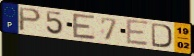5: (45, 11, 65, 36)
7: (99, 17, 118, 42)
D: (150, 22, 173, 49)
E: (125, 18, 150, 48), (71, 13, 97, 41)
P: (17, 6, 43, 32)
